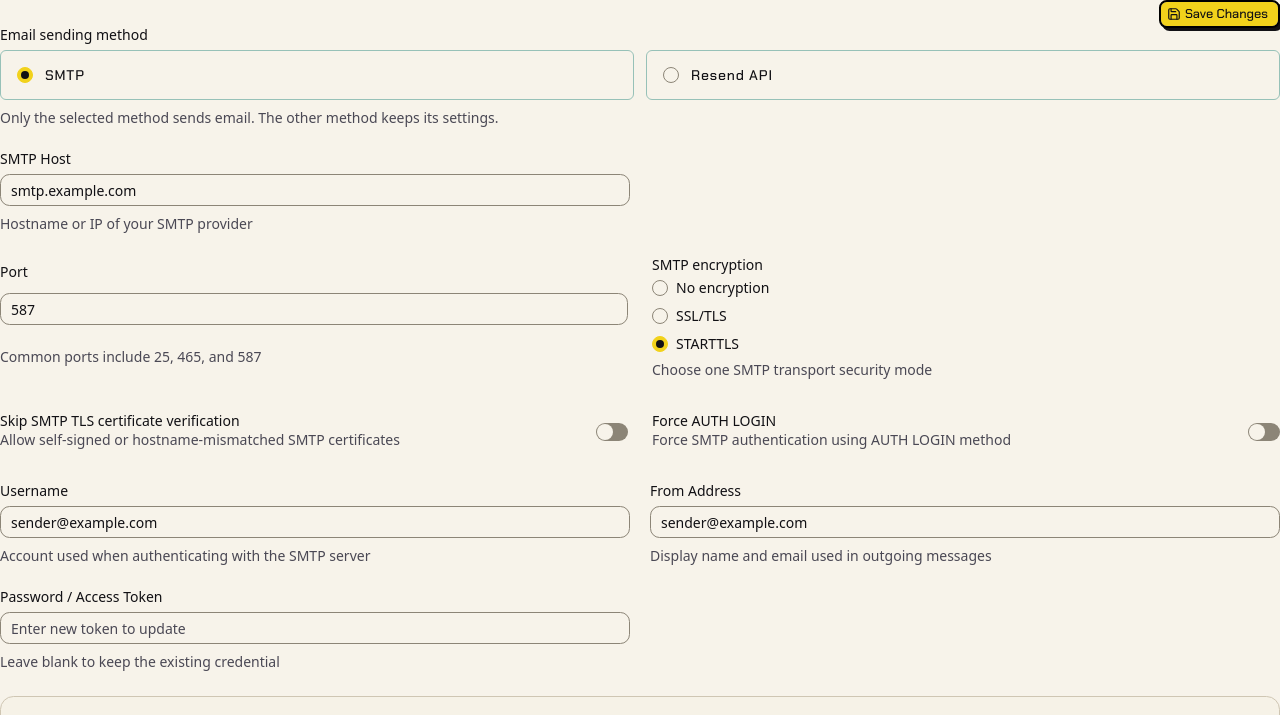
it: email delivery settings › requires a key before first activating Resend and does not disable SMTP
The image size is (1280, 715).
Click the radio button named "Resend API" next to "Resend API" at {"x": 671, "y": 75}, box [663,67,679,83]
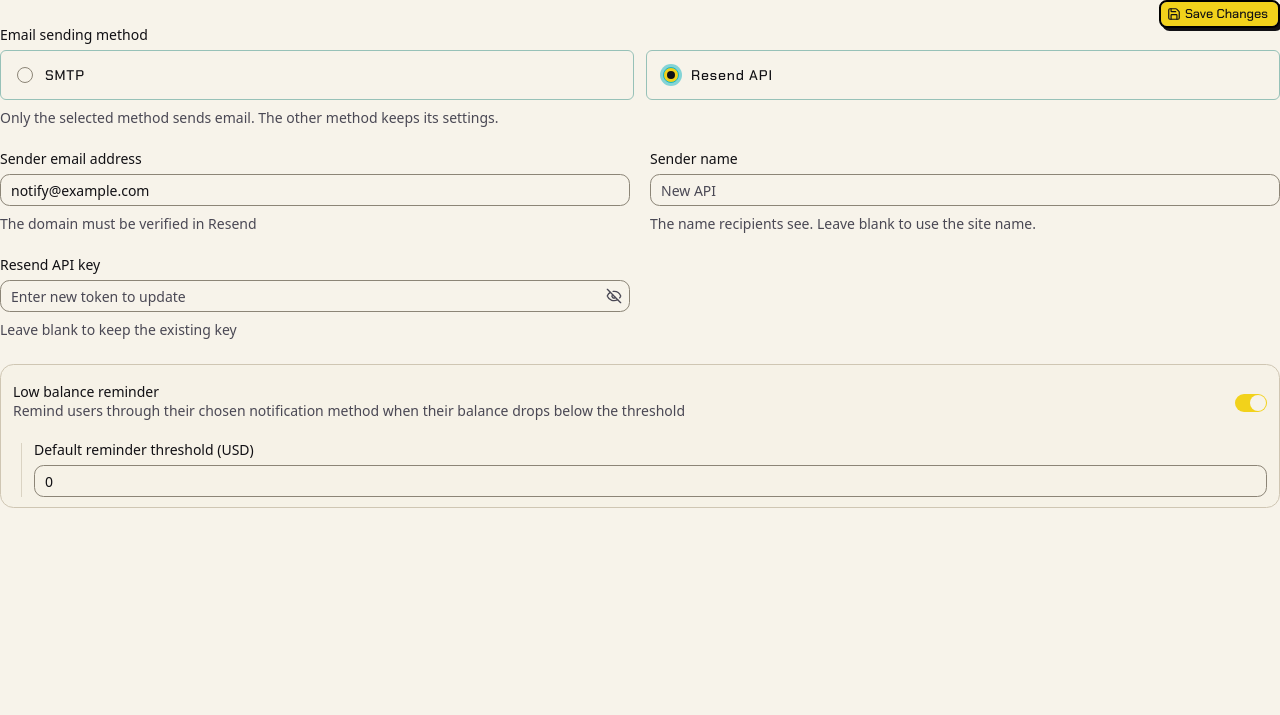
Click the button "Save Changes" at {"x": 1219, "y": 14}, box [1159,0,1279,28]
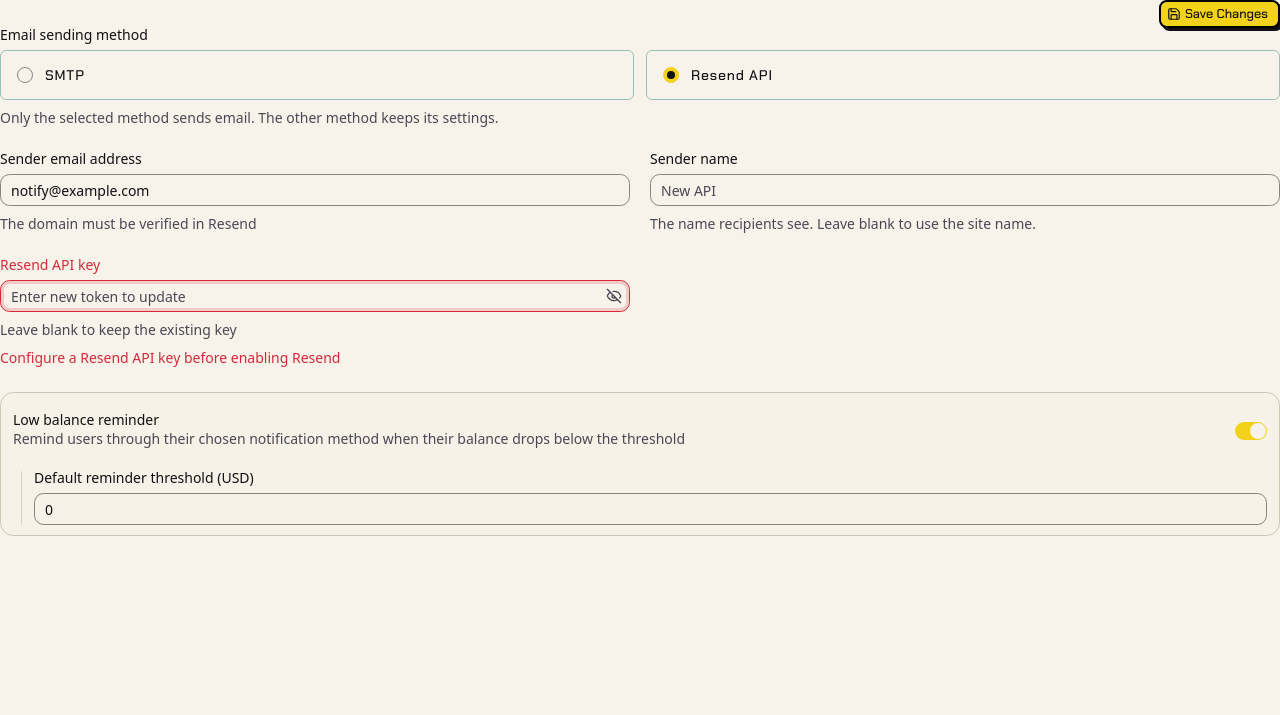
Now the text "Configure a Resend API key before enabling Resend" is shown, box [0,348,340,367]
